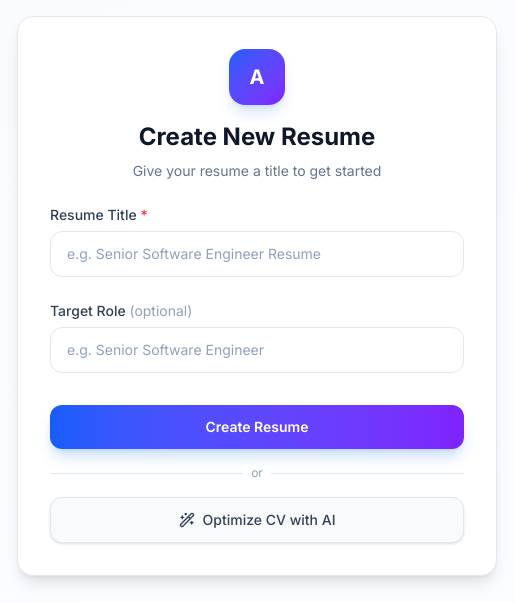
Create resume form — valid submission › shows pending state during submission
Type "Slow Resume" into the field labelled "Resume Title *" at (257, 254), box [50,231,464,277]
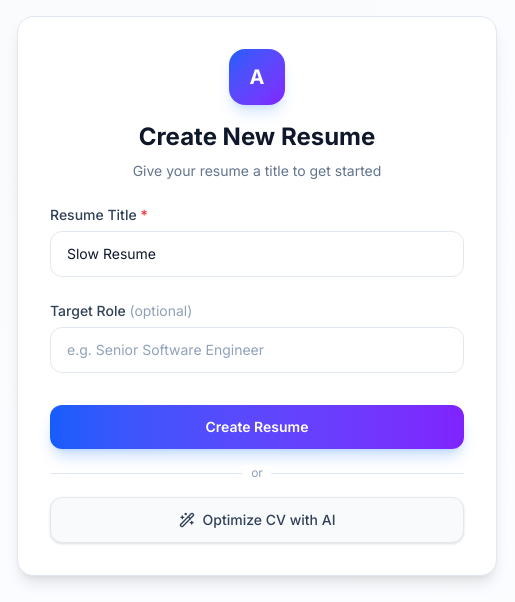
Click the button "Create Resume" at (257, 427), box [50,405,464,449]
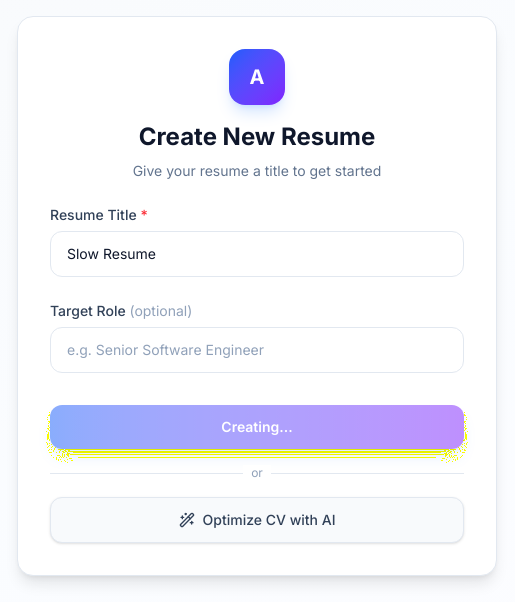
Expected: the button "Creating..." is disabled, [50,405,464,449]
